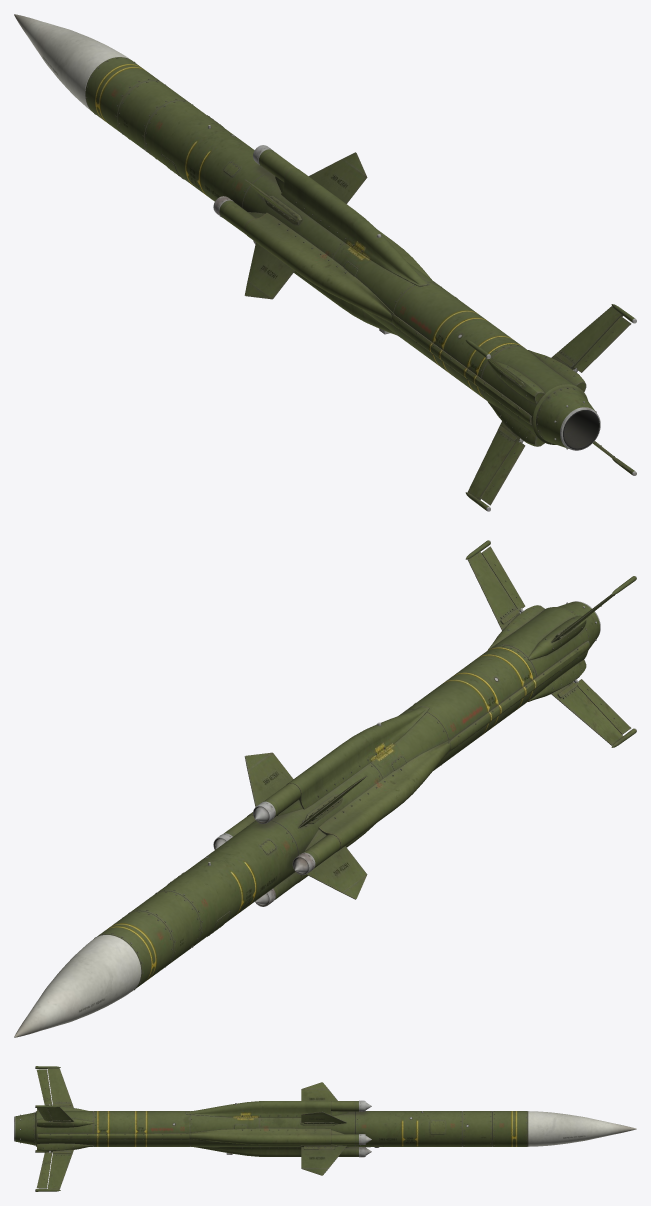
The model's file is msl_kub.glb.
3 renders of one model, top to bottom at view 1: azimuth 30°, elevation 25°; view 2: azimuth 150°, elevation 25°; view 3: azimuth 270°, elevation 25°, orthographic. The views are drawn at different scales.
Parts seen in each view (by area): view 1: body|M3_paint; view 2: body|M3_paint; view 3: body|M3_paint.
Boxes of the visible parts, left/top/right/bottom form: body|M3_paint: left=14, top=14, right=636, bottom=511; body|M3_paint: left=14, top=540, right=636, bottom=1037; body|M3_paint: left=14, top=1066, right=636, bottom=1191.
Bounding box in the file's own units: 0.8926 × 0.8926 × 5.84.
Materials: 1 (1 with a texture image).
